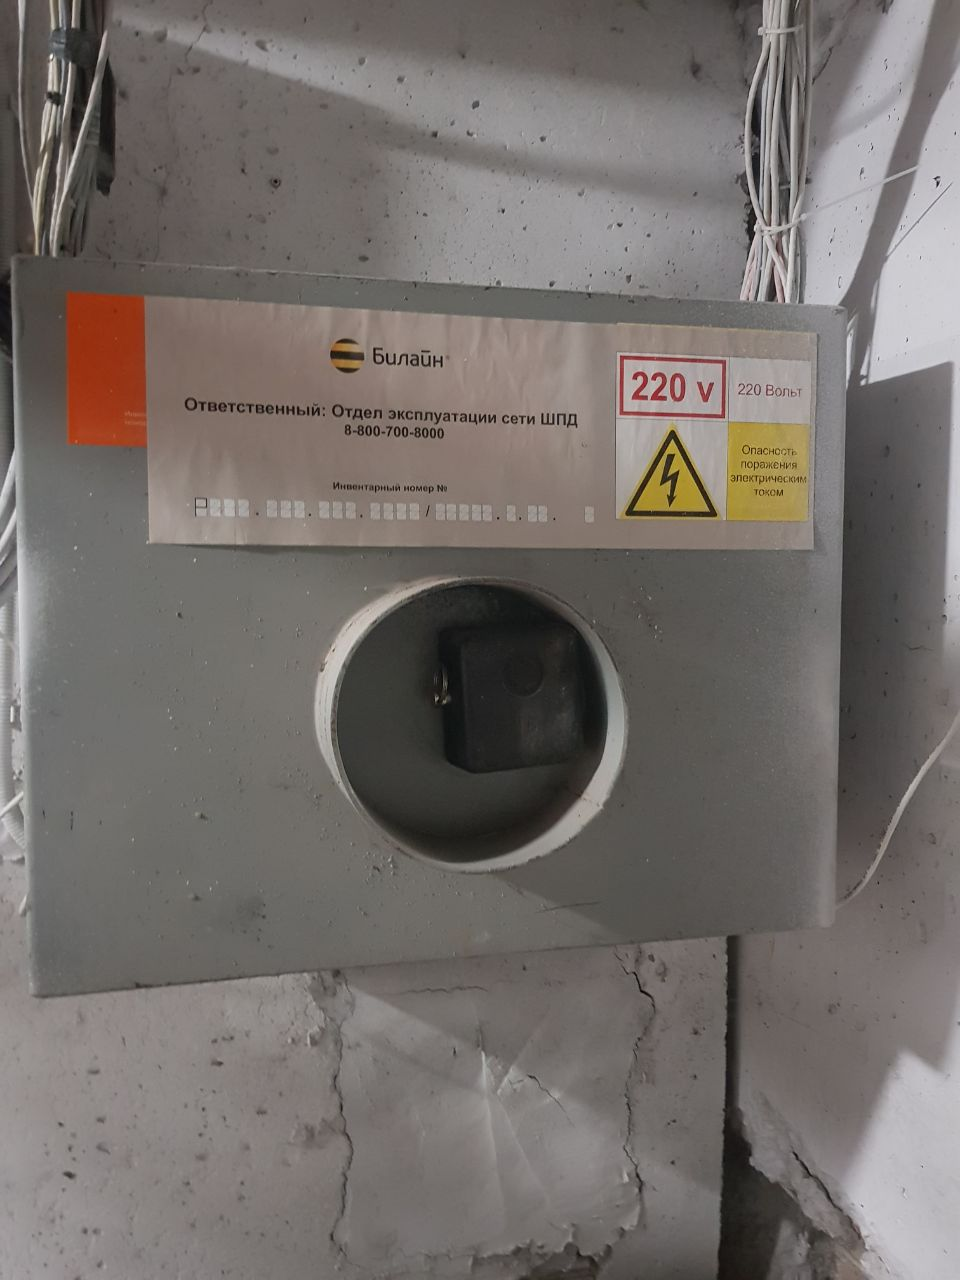shta-3: (8, 250, 849, 1005)
